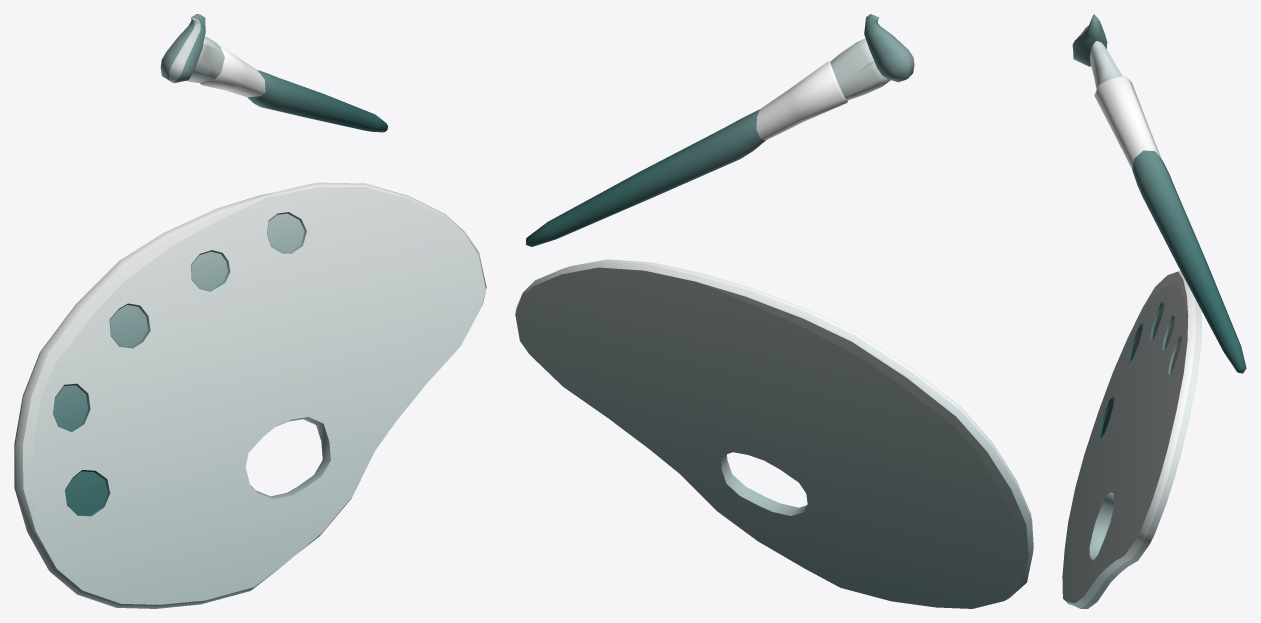
Rendered from Emotion_Painting.fbx.
The picture shows the model from 3 angles, left to right: view 1: azimuth 30°, elevation 25°; view 2: azimuth 150°, elevation 25°; view 3: azimuth 270°, elevation 25°; orthographic projection. The views are drawn at different scales.
Visible parts, largest first — view 1: Emotion_Painting; view 2: Emotion_Painting; view 3: Emotion_Painting.
Part boxes in pixels (x1,y1,x2,y2): Emotion_Painting: (14,14,486,608); Emotion_Painting: (515,14,1033,608); Emotion_Painting: (1062,14,1246,608).
Bounding box in the file's own units: 15.68 × 17.84 × 5.22.
